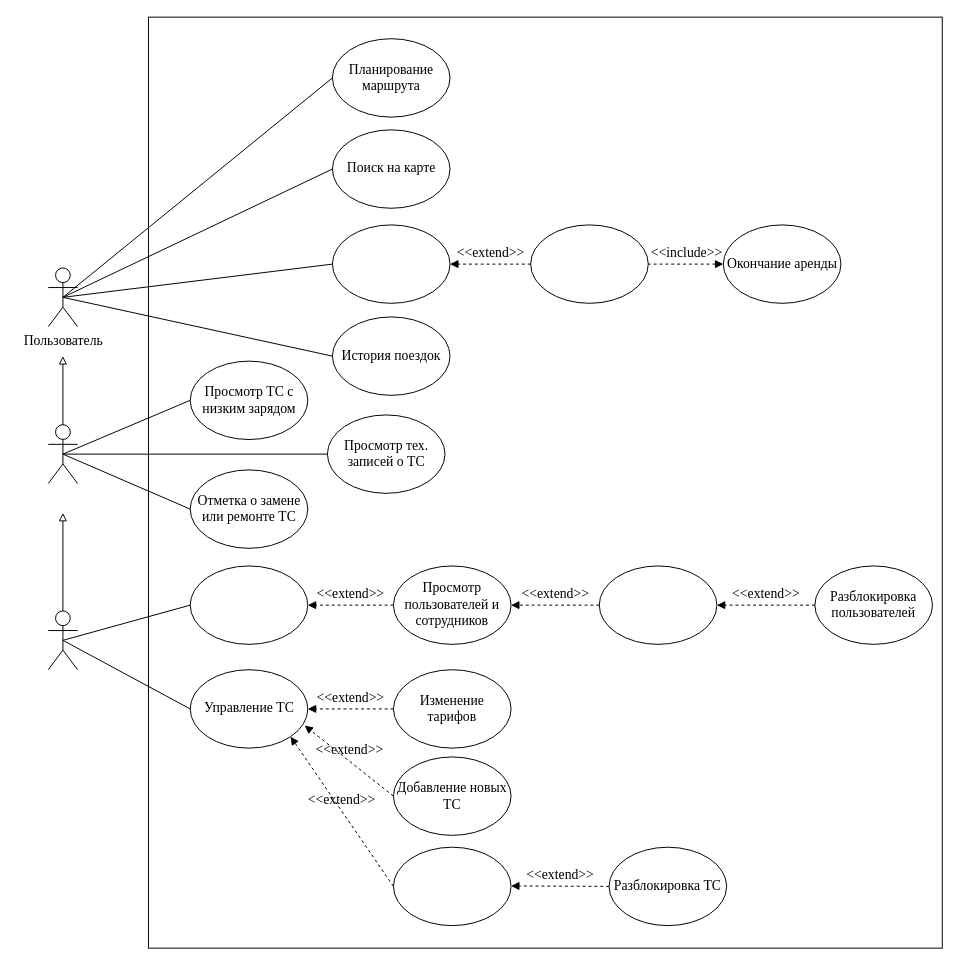
The diagram is 960 pixels wide and 965 high, and some of its shapes have lost their labels. Here are the shapes that lost their labels. From the top down, the centre of each, then its label:
point 390,263: Привязка карты
point 589,263: Старт аренды
point 62,454: Сотрудник
point 248,604: Управление пользователями
point 657,604: Блокировка пользователей
point 62,640: Администратор
point 451,886: Блокировка ТС
